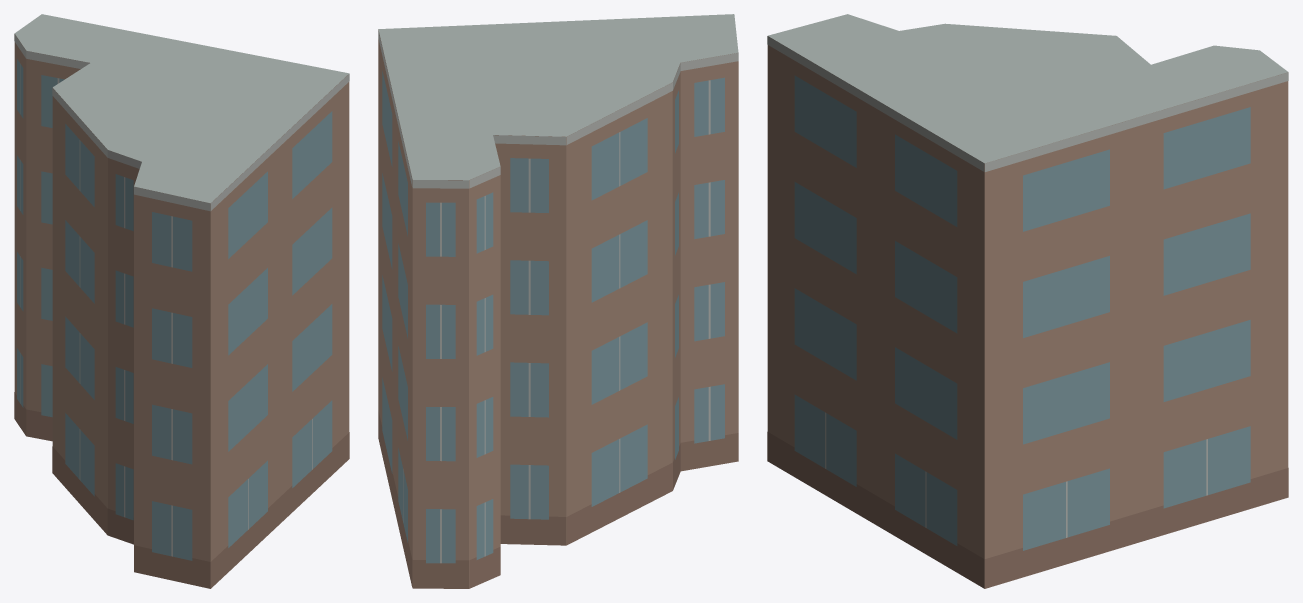
File: survey-upis-32553309.glb
3 renders of one model, left to right at view 1: azimuth 30°, elevation 25°; view 2: azimuth 150°, elevation 25°; view 3: azimuth 270°, elevation 25°, orthographic. The views are drawn at different scales.
Visible parts, largest first — view 1: survey-upis-32553309.tmp; view 2: survey-upis-32553309.tmp; view 3: survey-upis-32553309.tmp.
Part boxes in pixels (box(x1,y1,x2,y2)): survey-upis-32553309.tmp: box(14, 14, 349, 588); survey-upis-32553309.tmp: box(378, 14, 738, 588); survey-upis-32553309.tmp: box(767, 14, 1288, 588).
Bounding box in the file's own units: 8.82 × 11.7 × 13.
